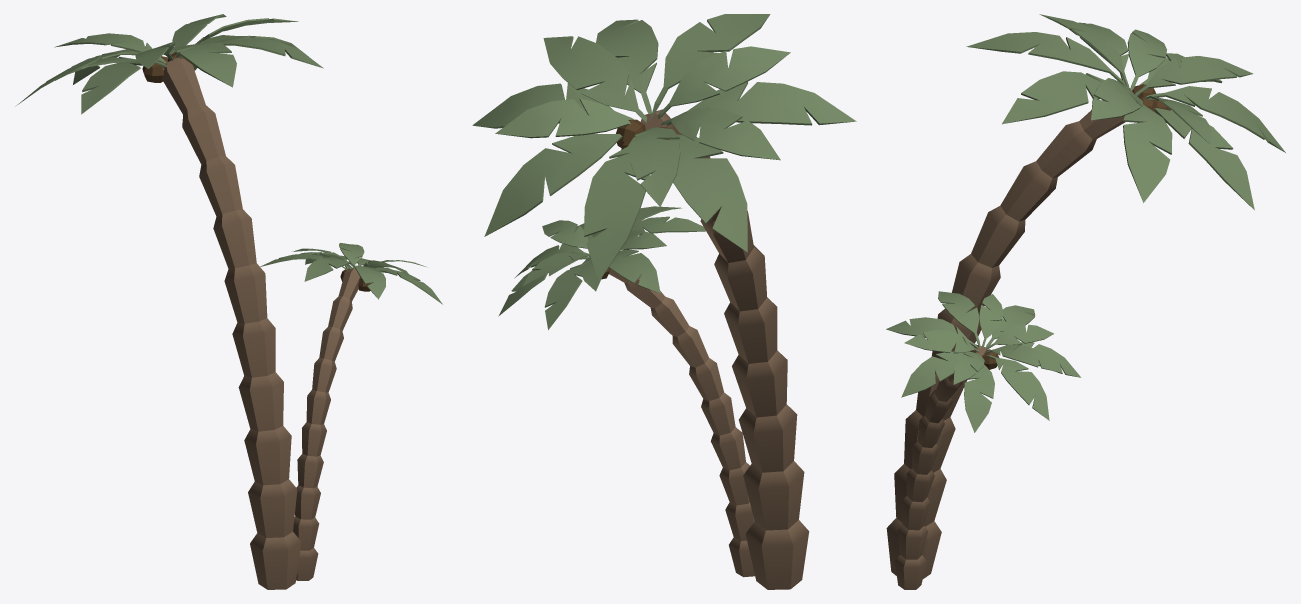
File: Palm Trees.fbx
3 views of the same model, side by side, from view 1: azimuth 30°, elevation 25°; view 2: azimuth 150°, elevation 25°; view 3: azimuth 270°, elevation 25° (orthographic). The views are drawn at different scales.
Visible parts, largest first — view 1: pCylinder11, pCylinder12, pPlane2, pPlane1, pPlane3, pPlane9, pPlane10, pPlane23, pPlane14; view 2: pCylinder11, pCylinder12, pPlane5, pPlane7, pPlane4, pPlane1, pPlane11, pPlane2, pPlane8, pPlane10, pPlane12, pPlane3 (+10 smaller); view 3: pCylinder11, pCylinder12, pPlane6, pPlane3, pPlane2, pPlane7, pPlane4, pPlane9, pPlane11, pPlane21, pPlane17, pPlane12 (+13 smaller).
Boxes of the visible parts, left/top/right/bottom form: pCylinder11: left=162, top=57, right=301, bottom=589; pCylinder12: left=293, top=268, right=360, bottom=580; pPlane2: left=174, top=42, right=236, bottom=87; pPlane1: left=81, top=60, right=166, bottom=114; pPlane3: left=180, top=36, right=323, bottom=68; pPlane9: left=54, top=33, right=166, bottom=62; pPlane10: left=172, top=14, right=226, bottom=47; pPlane23: left=355, top=265, right=385, bottom=299; pPlane14: left=304, top=257, right=355, bottom=281; pCylinder11: left=640, top=109, right=809, bottom=589; pCylinder12: left=609, top=269, right=754, bottom=577; pPlane5: left=669, top=134, right=747, bottom=252; pPlane7: left=484, top=133, right=622, bottom=236; pPlane4: left=584, top=146, right=649, bottom=281; pPlane1: left=666, top=81, right=856, bottom=125; pPlane11: left=543, top=36, right=647, bottom=122; pPlane2: left=649, top=14, right=770, bottom=121; pPlane8: left=657, top=46, right=790, bottom=118; pPlane10: left=495, top=98, right=630, bottom=138; pPlane12: left=661, top=107, right=780, bottom=160; pPlane3: left=596, top=19, right=658, bottom=113; pCylinder11: left=886, top=88, right=1133, bottom=578; pCylinder12: left=894, top=344, right=986, bottom=589; pPlane6: left=1123, top=102, right=1172, bottom=202; pPlane3: left=1002, top=71, right=1104, bottom=124; pPlane2: left=966, top=32, right=1127, bottom=88; pPlane7: left=1154, top=108, right=1254, bottom=210; pPlane4: left=1145, top=86, right=1285, bottom=152; pPlane9: left=1135, top=56, right=1253, bottom=96; pPlane11: left=1091, top=78, right=1142, bottom=120; pPlane21: left=987, top=355, right=1049, bottom=420; pPlane17: left=964, top=364, right=994, bottom=432; pPlane12: left=1127, top=29, right=1166, bottom=90.
Size of the model in its own units: 10 by 14.99 by 10.3.
